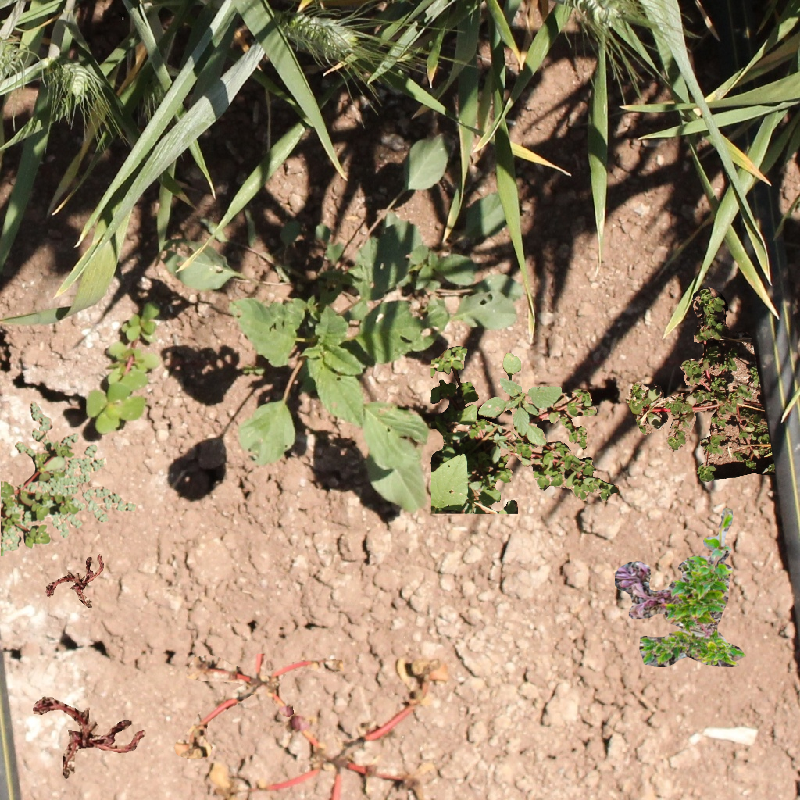spikelet: (278, 11, 358, 57), (561, 1, 629, 30), (56, 58, 97, 99)
weed: (231, 287, 446, 520), (609, 281, 776, 498), (430, 346, 619, 514), (316, 196, 537, 328), (229, 665, 443, 800), (1, 401, 136, 556), (615, 508, 746, 667), (173, 651, 344, 757), (74, 291, 162, 434), (33, 696, 146, 779), (41, 540, 122, 623)
